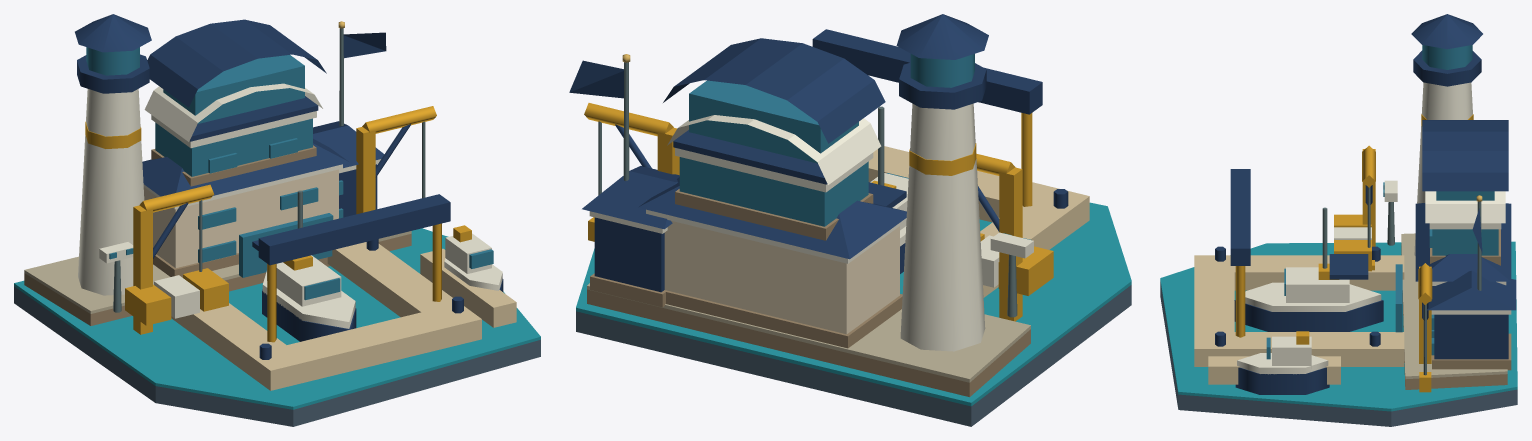
File: port-lv5.glb
The picture shows the model from 3 angles, left to right: view 1: azimuth 30°, elevation 25°; view 2: azimuth 150°, elevation 25°; view 3: azimuth 270°, elevation 25°; orthographic projection. The views are drawn at different scales.
Visible parts, largest first — view 1: foundation_water, pier_stone, lighthouse_white, foundation_slate, warehouse_cream, upper_canopy_naval, port_gate_naval, cranes_ochre, vessel_white, upper_lounge_glass, terminal_glass, warehouse_roof_naval (+29 smaller); view 2: lighthouse_white, warehouse_cream, foundation_water, foundation_slate, upper_canopy_naval, quay_stoneDark, upper_lounge_glass, terminal_glass, quay_paving, warehouse_roof_naval, cranes_ochre, pier_stone (+25 smaller); view 3: foundation_water, pier_stone, upper_canopy_naval, vessel_white, vessel_naval, foundation_slate, warehouse_annex_naval, warehouse_roof_naval, quay_paving, warehouse_annex_roof_naval, lighthouse_white, cranes_ochre (+20 smaller).
Boxes of the visible parts, left/top/right/bottom form: foundation_water: left=14, top=228, right=540, bottom=409; pier_stone: left=171, top=242, right=481, bottom=390; lighthouse_white: left=78, top=89, right=144, bottom=295; foundation_slate: left=14, top=286, right=540, bottom=426; warehouse_cream: left=143, top=169, right=338, bottom=268; upper_canopy_naval: left=147, top=19, right=326, bottom=107; port_gate_naval: left=258, top=194, right=450, bottom=265; cranes_ochre: left=133, top=106, right=436, bottom=334; vessel_white: left=262, top=233, right=502, bottom=328; upper_lounge_glass: left=163, top=55, right=304, bottom=123; terminal_glass: left=155, top=118, right=312, bottom=176; warehouse_roof_naval: left=142, top=138, right=349, bottom=196; lighthouse_white: left=900, top=103, right=985, bottom=351; warehouse_cream: left=664, top=220, right=899, bottom=334; foundation_water: left=576, top=202, right=1131, bottom=406; foundation_slate: left=576, top=285, right=1131, bottom=426; upper_canopy_naval: left=663, top=38, right=885, bottom=143; quay_stoneDark: left=587, top=289, right=1030, bottom=397; upper_lounge_glass: left=689, top=80, right=858, bottom=163; terminal_glass: left=679, top=157, right=868, bottom=226; quay_paving: left=587, top=283, right=1030, bottom=382; warehouse_roof_naval: left=638, top=177, right=906, bottom=259; cranes_ochre: left=584, top=103, right=1022, bottom=321; pier_stone: left=868, top=146, right=1089, bottom=297; foundation_water: left=1160, top=241, right=1517, bottom=411; pier_stone: left=1194, top=255, right=1404, bottom=366; upper_canopy_naval: left=1422, top=120, right=1508, bottom=191; vessel_white: left=1237, top=267, right=1381, bottom=374; vessel_naval: left=1234, top=254, right=1383, bottom=394; foundation_slate: left=1160, top=282, right=1517, bottom=426; warehouse_annex_naval: left=1434, top=314, right=1508, bottom=359; warehouse_roof_naval: left=1415, top=203, right=1511, bottom=281; quay_paving: left=1401, top=233, right=1507, bottom=379; warehouse_annex_roof_naval: left=1427, top=270, right=1516, bottom=310; lighthouse_white: left=1414, top=82, right=1472, bottom=255; cranes_ochre: left=1362, top=145, right=1432, bottom=363.
Size of the model in its own units: 1 by 0.7614 by 0.9036.
